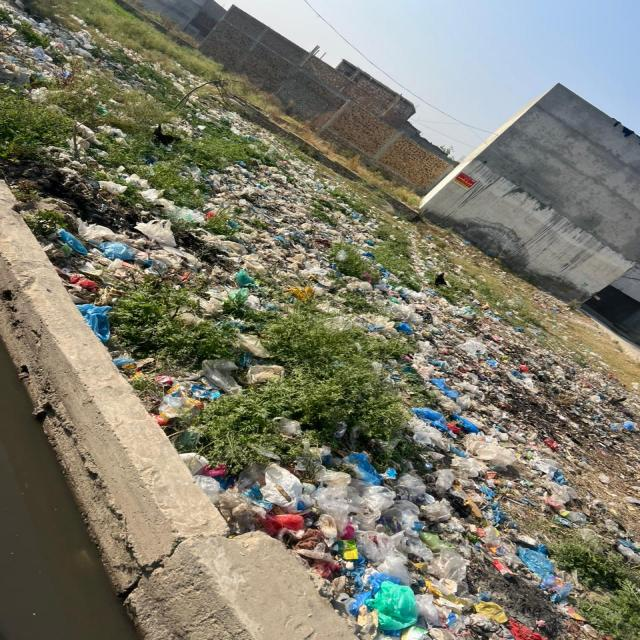garbage: (3, 10, 402, 288), (266, 427, 579, 639), (363, 280, 604, 422)
